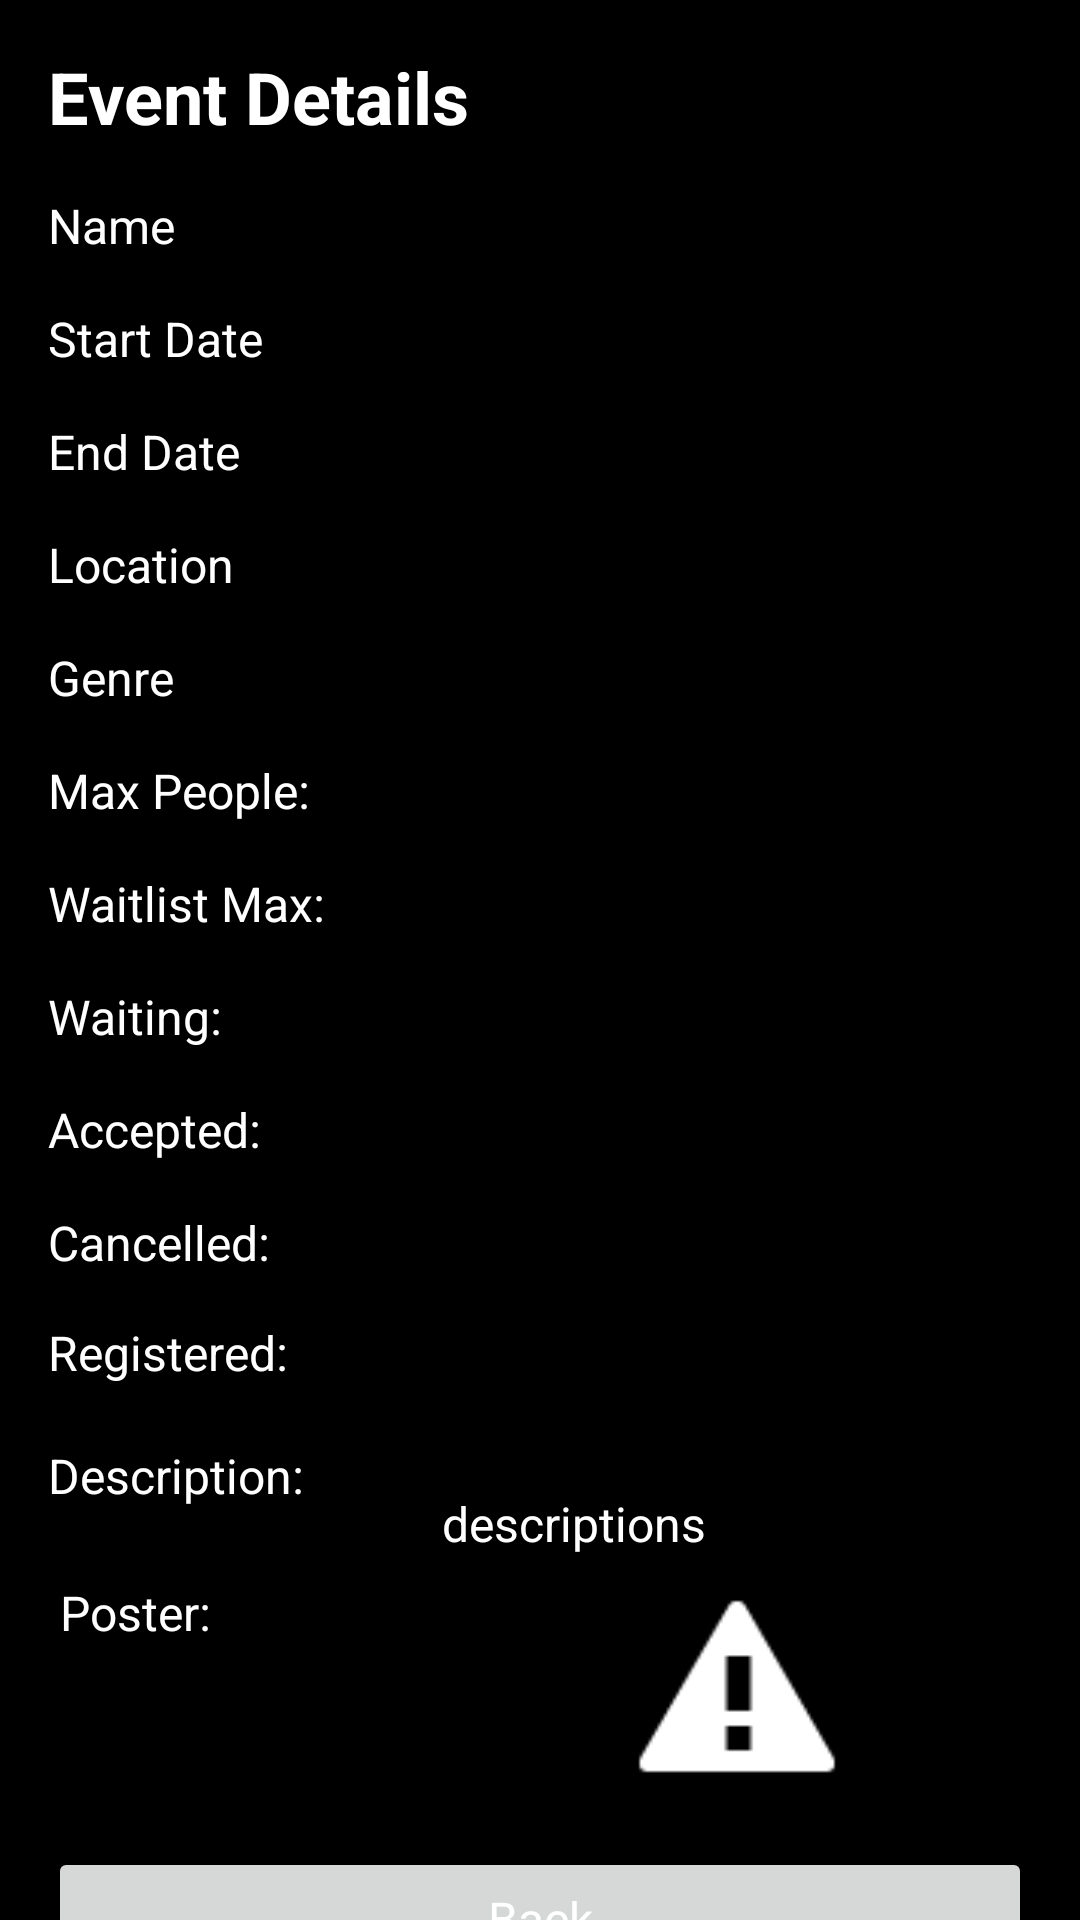

Named icons in this screenshot (1080w x 1920h) and their bounding boxes, [x1, y1, x2, y2]:
error: [638, 1600, 836, 1773]
